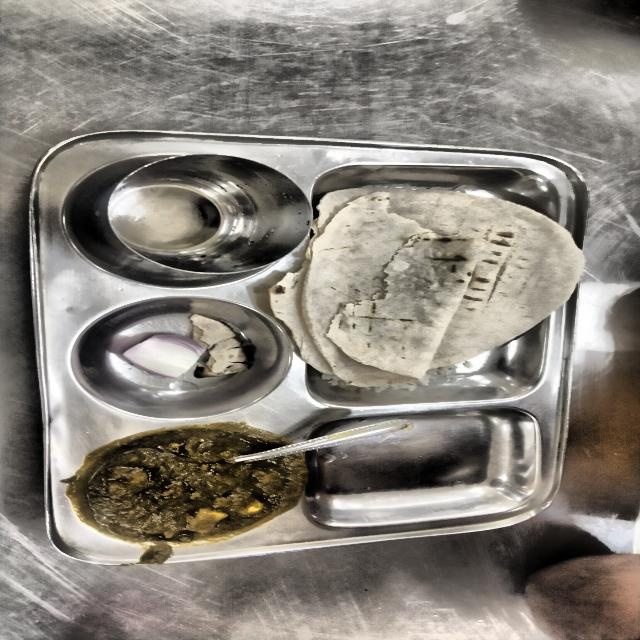Halwa: (81, 423, 287, 544)
Red--chutney: (302, 189, 540, 386), (623, 0, 640, 3), (617, 0, 620, 1)
